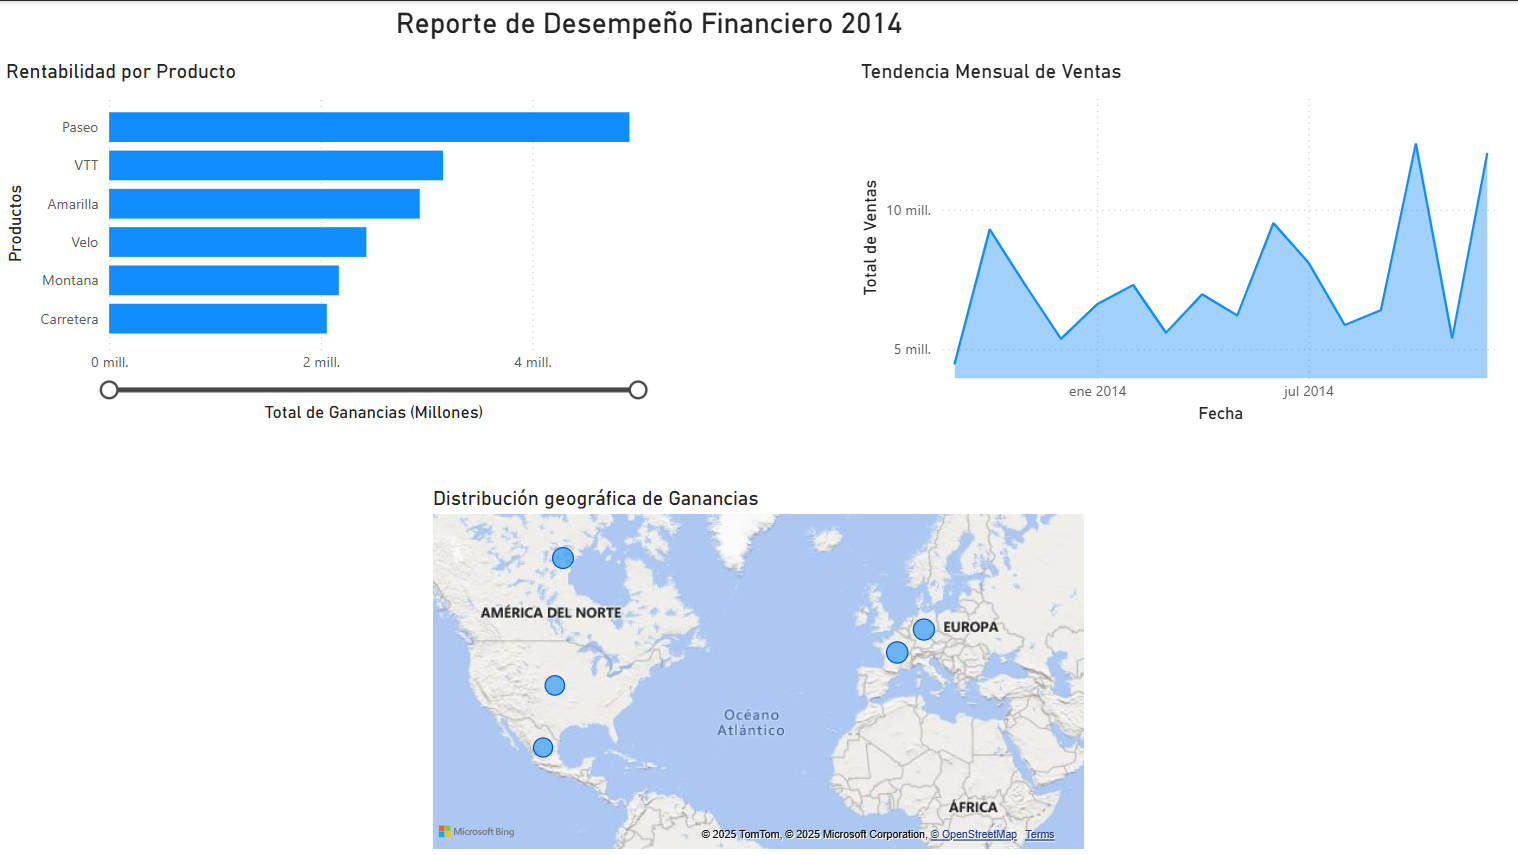

The page's visual inventory and layout, read from the dashboard file:
{"tool":"powerbi","page":{"name":"Página 1","canvas":[1280,720],"ordinal":0},"visuals":[{"type":"barChart","title":"Rentabilidad por Producto","fields":{"Category":["Sheet1.Product"],"Y":["Sum(Sheet1.Profit)"]},"box":[0,48.9,559,311.1],"z":0},{"type":"lineChart","title":"Tendencia Mensual de Ventas","fields":{"Category":["Sheet1.Date"],"Y":["Sum(Sheet1.Sales)"]},"box":[720.8,48.9,559,311.1],"z":1000},{"type":"map","title":"Distribución geográfica de Ganancias","fields":{"Category":["Sheet1.Country"],"Size":["Sum(Sheet1.Profit)"]},"box":[360,408.9,559,311.1],"z":2000},{"type":"textbox","box":[328.8,0,460.3,40.5],"z":2001}]}

Visuals, with their boxes in screenshot pixels (x1, y1, x2, y2), scaled from the page's 1280x720 canvas onto the 1518x855 screenshot:
"Rentabilidad por Producto" barChart: bbox=(0, 58, 663, 428)
"Tendencia Mensual de Ventas" lineChart: bbox=(855, 58, 1517, 428)
"Distribución geográfica de Ganancias" map: bbox=(427, 486, 1090, 854)
textbox: bbox=(390, 0, 936, 48)
